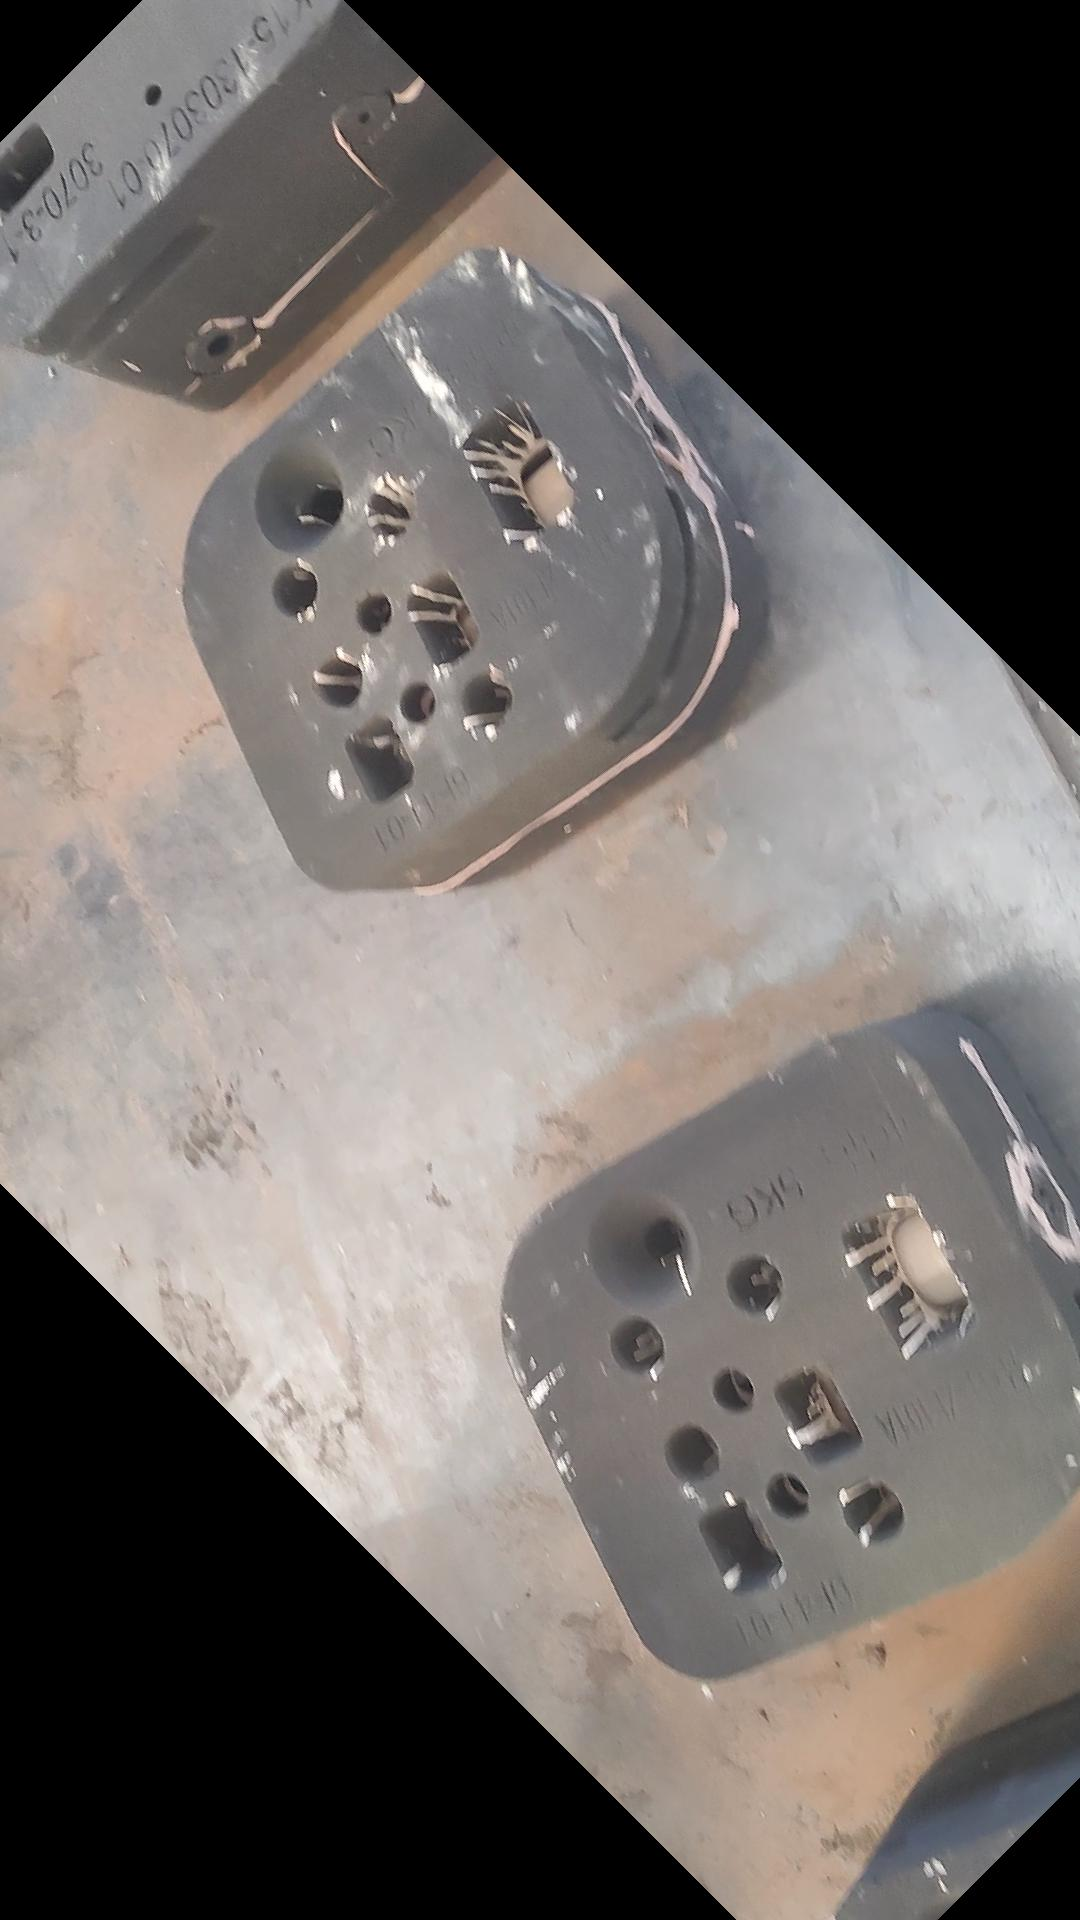pouring hole: (585, 1191, 700, 1311), (253, 440, 348, 554)
